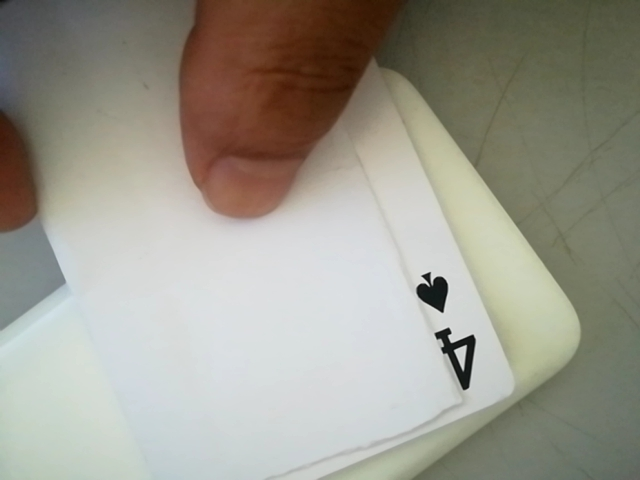ht 4: (401, 259, 499, 398)
